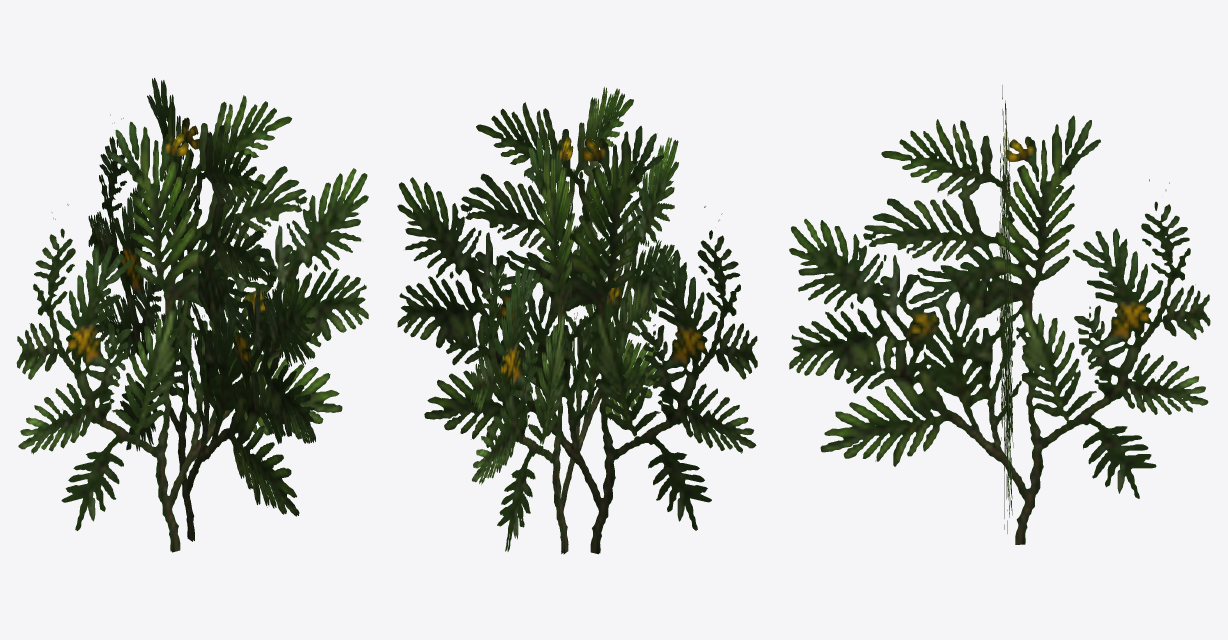
The model's file is fxmg_zhiwu2.FBX.
The picture shows the model from 3 angles, left to right: view 1: azimuth 30°, elevation 25°; view 2: azimuth 150°, elevation 25°; view 3: azimuth 270°, elevation 25°; orthographic projection. The views are drawn at different scales.
Parts seen in each view (by area): view 1: KLMSM_zhiwu2; view 2: KLMSM_zhiwu2; view 3: KLMSM_zhiwu2.
Boxes of the visible parts, x1,y1,x2,y2 form: KLMSM_zhiwu2: (16, 78, 368, 552); KLMSM_zhiwu2: (397, 87, 757, 554); KLMSM_zhiwu2: (789, 85, 1210, 544).
Size of the model in its own units: 515 by 622 by 542.
